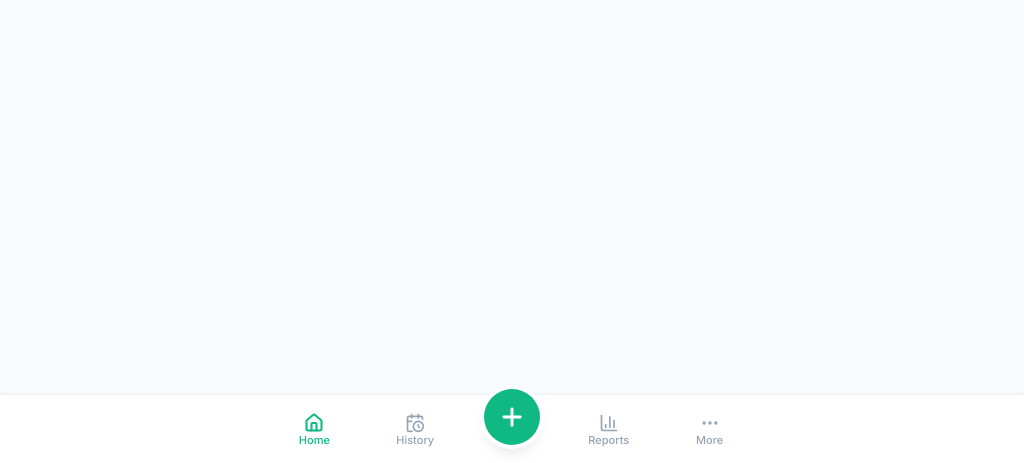
Test: BottomNav › More menu opens when More button is clicked
Click the button with test id "nav-more". click: click(710, 429)
box: [659,406,760,452]
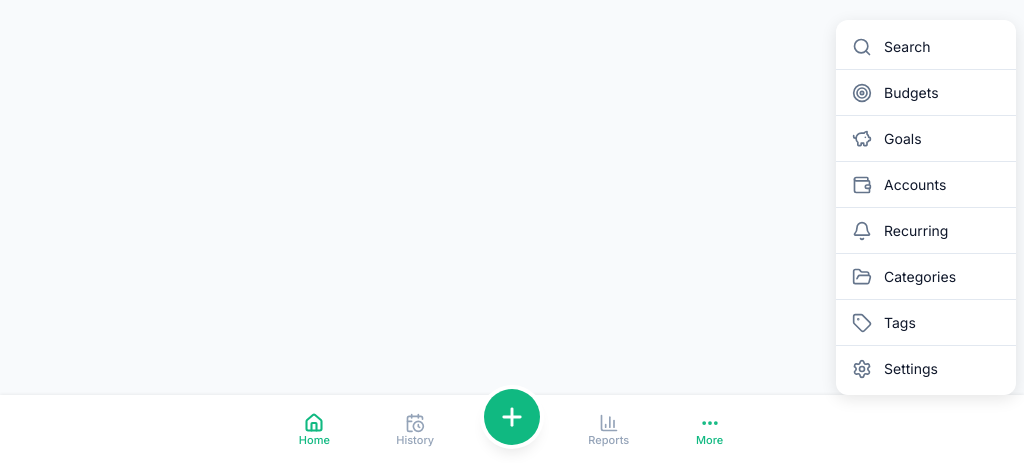
Now the menu with test id "more-menu" is shown, box [836,20,1016,395]
